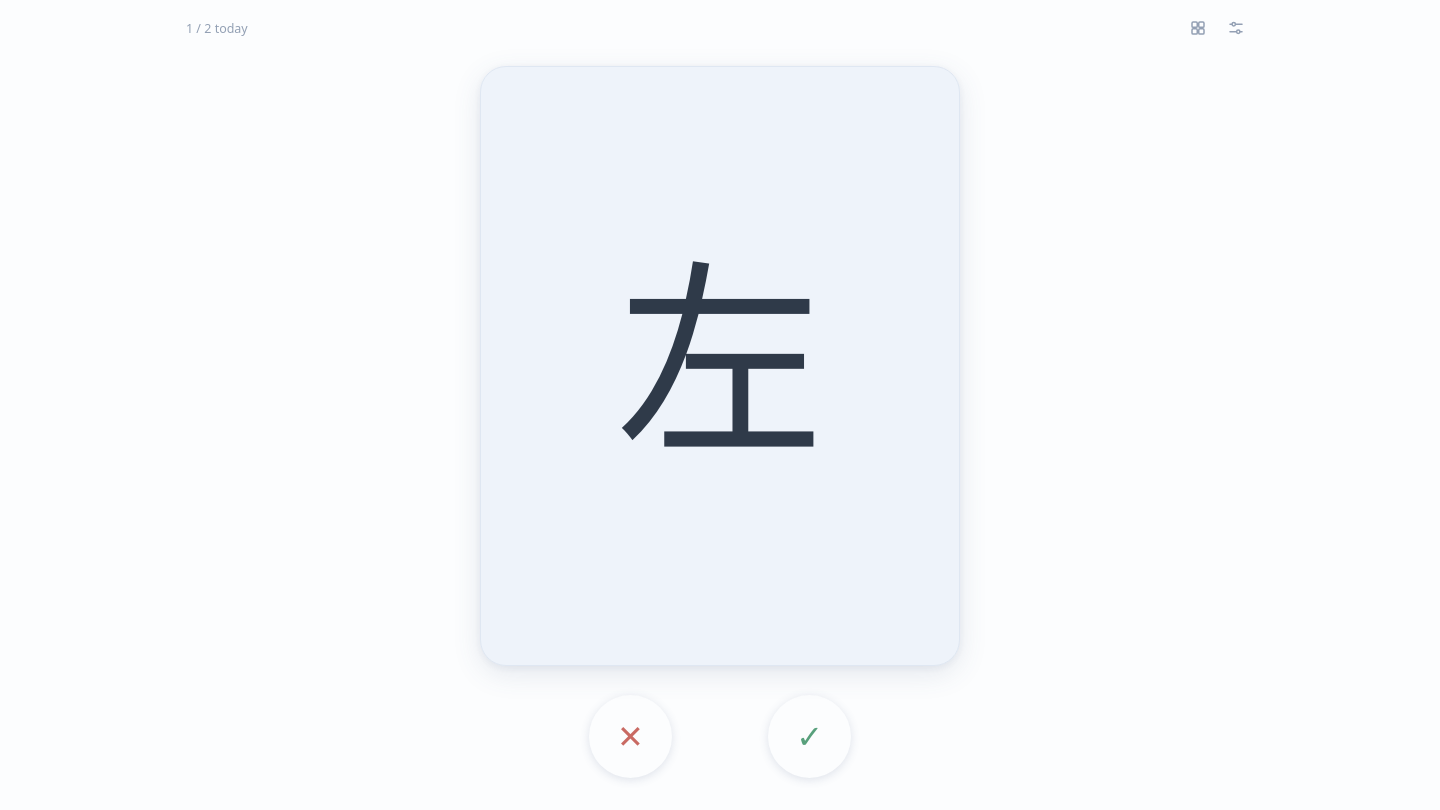
Test case: daily lesson › runs a full day: check shows the answer, confirming advances
The image size is (1440, 810).
Check: the text "1 / 2 today" is shown, box [186, 20, 248, 37]
Click the button named "I know this": coordinates (810, 736) [768, 695, 851, 778]
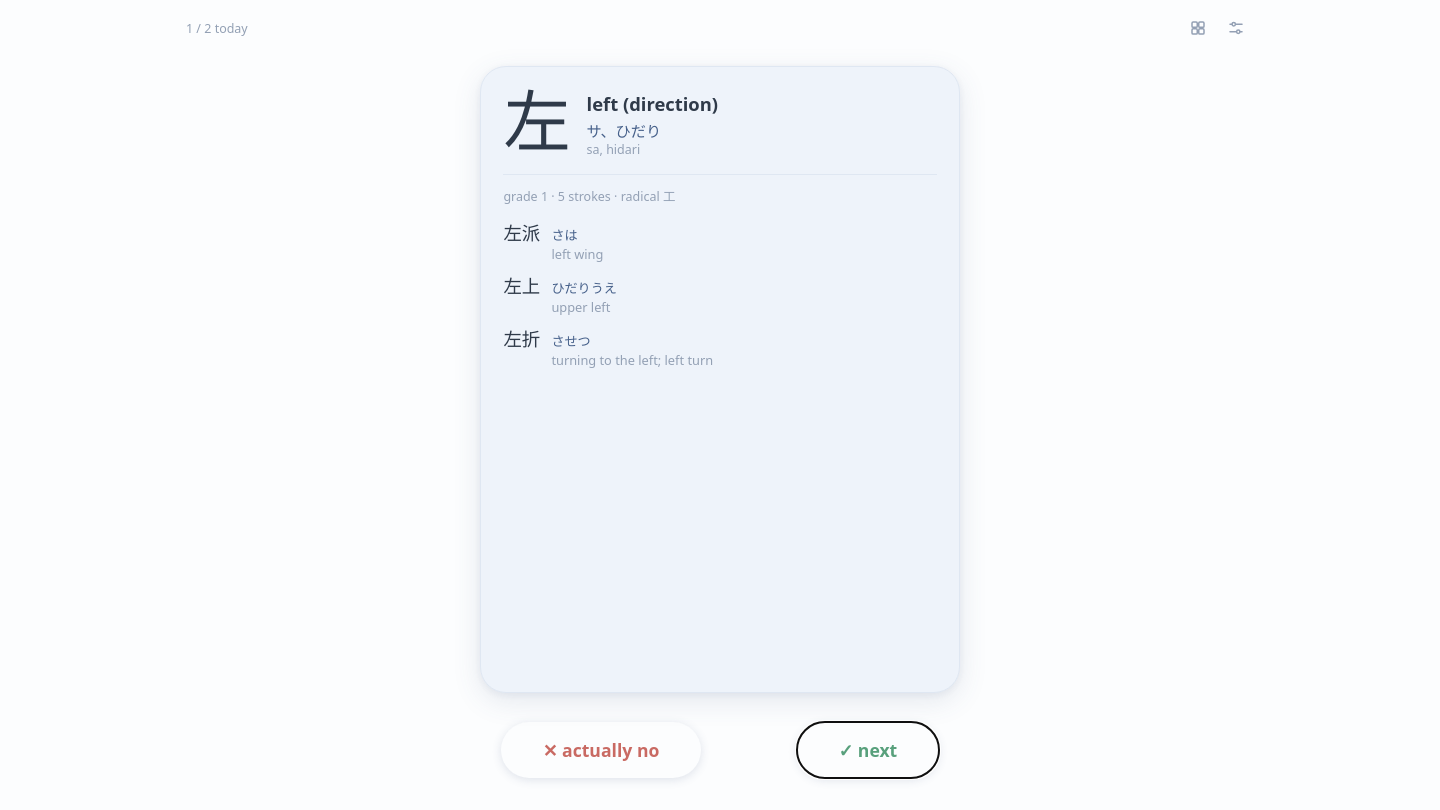
Click the button "✓ next": coordinates (868, 750) [797, 722, 939, 778]
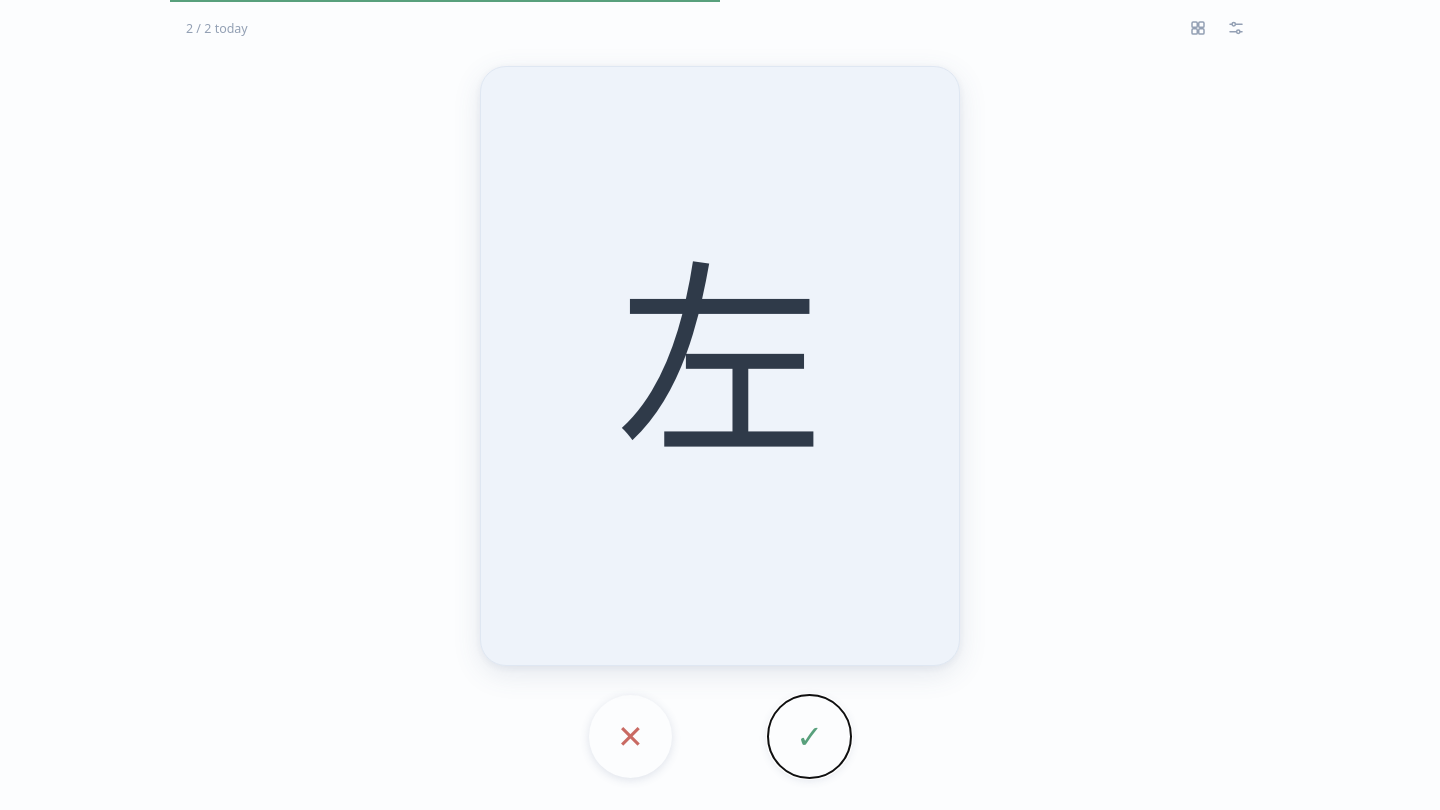
Check: the text "2 / 2 today" is shown, box [186, 20, 248, 37]
Click the button named "I know this": coordinates (810, 736) [768, 695, 851, 778]
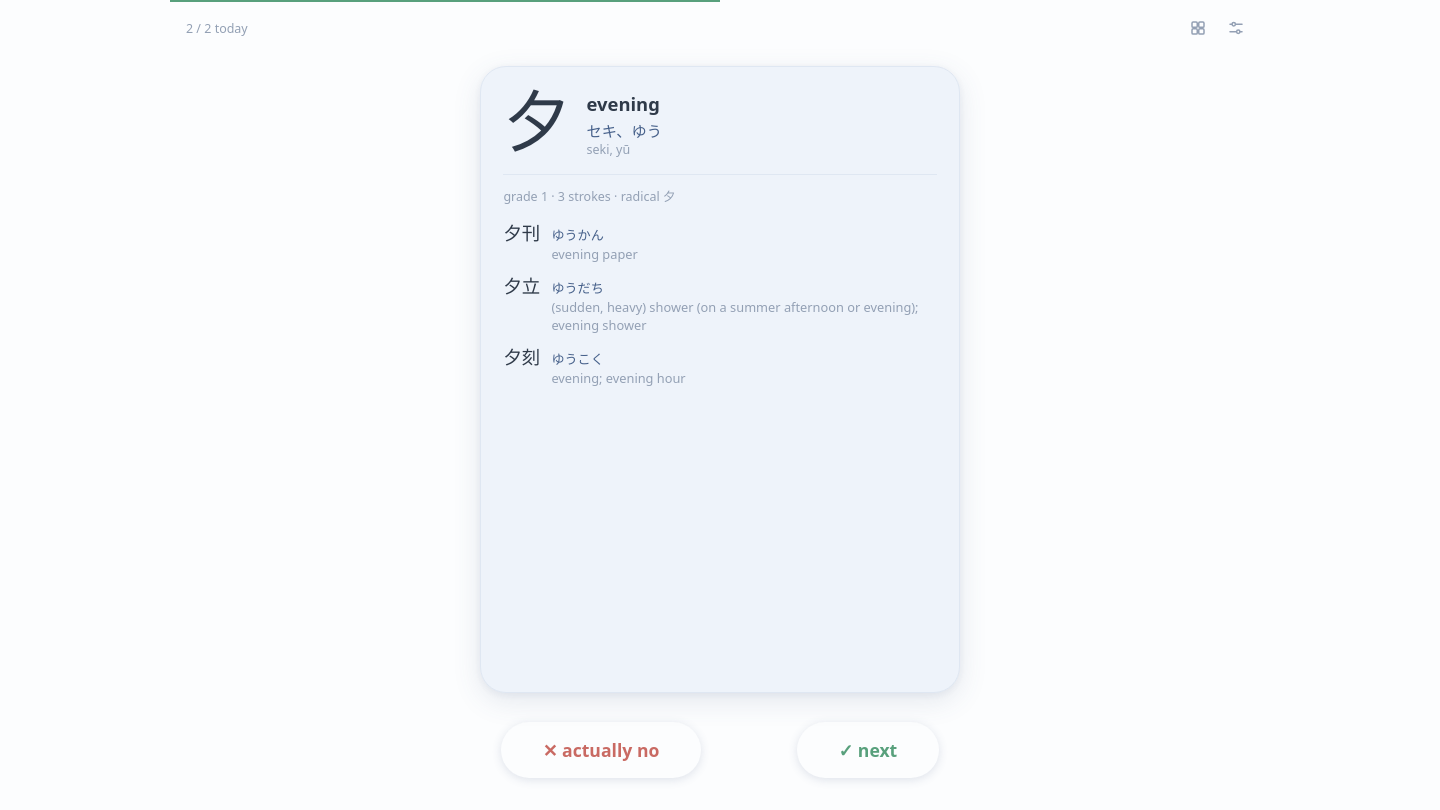
Click the button "✓ next": coordinates (868, 750) [797, 722, 939, 778]
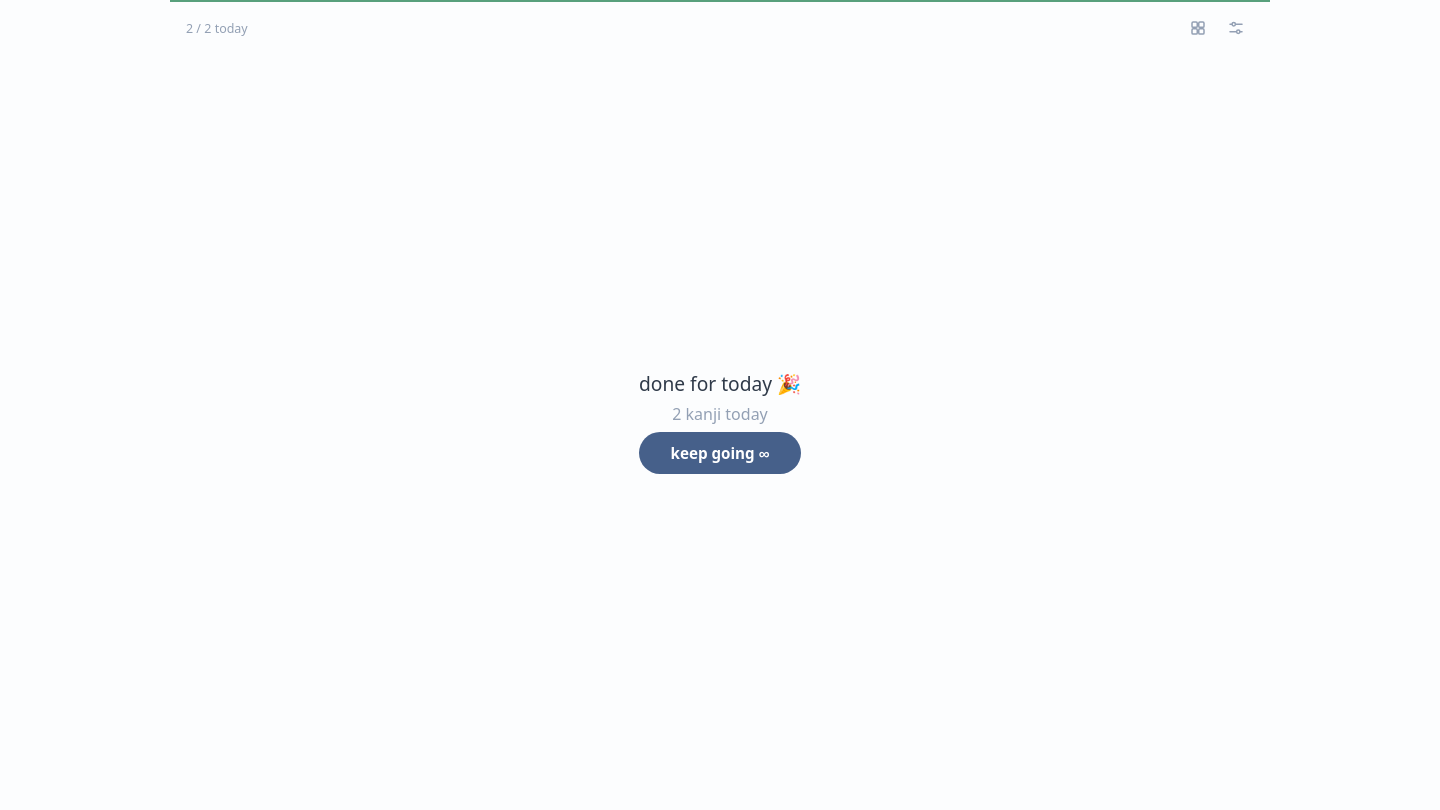
Check: the text "done for today 🎉" is shown, box [639, 370, 801, 397]
Check: the button "keep going ∞" is shown, box [639, 432, 801, 474]
